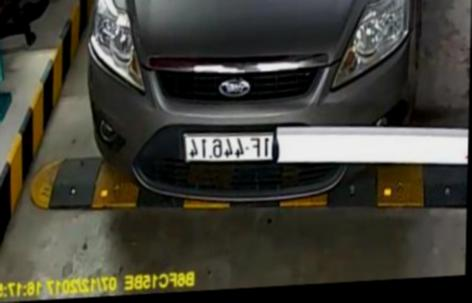License_Plate: (172, 122, 278, 170)
